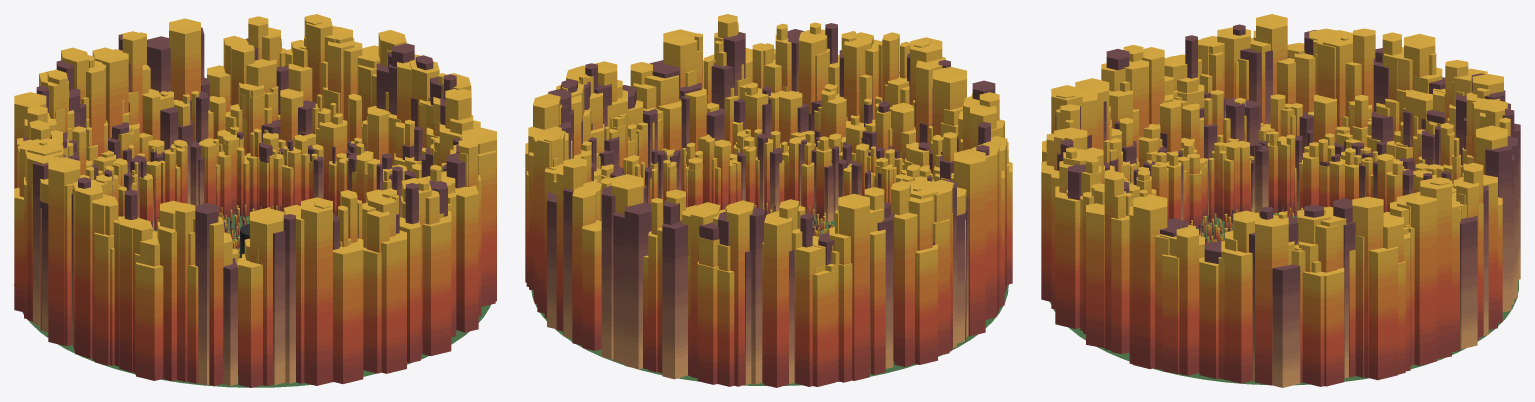
The model's file is world_32.gltf.
The picture shows the model from 3 angles, left to right: view 1: azimuth 30°, elevation 25°; view 2: azimuth 150°, elevation 25°; view 3: azimuth 270°, elevation 25°; orthographic projection.
Parts seen in each view (by area): view 1: Cylinder.3786, Cylinder.4697, Cylinder.969, Cylinder.4693, Cylinder.1814, Cylinder.1877, Cylinder.1731, Cylinder.2652, Cylinder.1908, Cylinder.3868, Cylinder.3180, Cylinder.3541 (+93 smaller); view 2: Cylinder.4162, Cylinder.2880, Cylinder.5061, Cylinder.1877, Cylinder.1755, Cylinder.4405, Cylinder.2857, Cylinder.4421, Cylinder.2310, Cylinder.2377, Cylinder.4693, Cylinder.1725 (+95 smaller); view 3: Cylinder.3339, Cylinder.1998, Cylinder.2205, Cylinder.4594, Cylinder.2482, Cylinder.4615, Cylinder.969, Cylinder.4031, Cylinder.956, Cylinder.1731, Cylinder.1549, Cylinder.4502 (+106 smaller).
Part boxes in pixels (x1,y1,x2,y2): Cylinder.3786: [301, 197, 332, 385]; Cylinder.4697: [333, 238, 363, 383]; Cylinder.969: [422, 210, 451, 355]; Cylinder.4693: [73, 181, 102, 358]; Cylinder.1814: [366, 230, 406, 373]; Cylinder.1877: [48, 157, 80, 345]; Cylinder.1731: [455, 185, 478, 332]; Cylinder.2652: [136, 262, 163, 380]; Cylinder.1908: [238, 257, 262, 387]; Cylinder.3868: [250, 208, 284, 385]; Cylinder.3180: [195, 203, 218, 385]; Cylinder.3541: [209, 216, 223, 385]; Cylinder.4162: [764, 211, 792, 387]; Cylinder.2880: [662, 220, 687, 379]; Cylinder.5061: [838, 193, 869, 380]; Cylinder.1877: [954, 149, 985, 336]; Cylinder.1755: [624, 202, 651, 369]; Cylinder.4405: [894, 212, 917, 366]; Cylinder.2857: [812, 270, 835, 386]; Cylinder.4421: [726, 200, 754, 386]; Cylinder.2310: [915, 244, 937, 364]; Cylinder.2377: [796, 235, 824, 386]; Cylinder.4693: [971, 143, 999, 319]; Cylinder.1725: [582, 220, 601, 350]; Cylinder.3339: [1133, 194, 1167, 369]; Cylinder.1998: [1368, 246, 1397, 380]; Cylinder.2205: [1221, 240, 1252, 383]; Cylinder.4594: [1255, 215, 1288, 385]; Cylinder.2482: [1272, 264, 1300, 387]; Cylinder.4615: [1406, 192, 1432, 365]; Cylinder.969: [1055, 186, 1080, 328]; Cylinder.4031: [1176, 227, 1198, 375]; Cylinder.956: [1420, 178, 1451, 358]; Cylinder.1731: [1086, 203, 1104, 347]; Cylinder.1549: [1302, 269, 1338, 386]; Cylinder.4502: [1111, 215, 1129, 353].
Size of what is drawn, in the model's own units: 505 by 198 by 502.
1 material, 1 textured.
